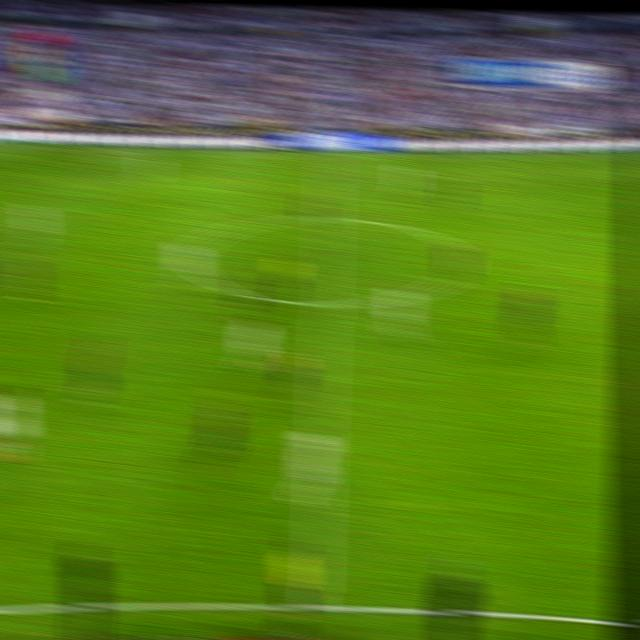halfcircle_bottom: (312, 288, 339, 318)
halfcircle_top: (316, 206, 341, 229)
midline_bottom_intersection: (299, 589, 332, 615)
midline_top_intersection: (320, 149, 341, 163)
